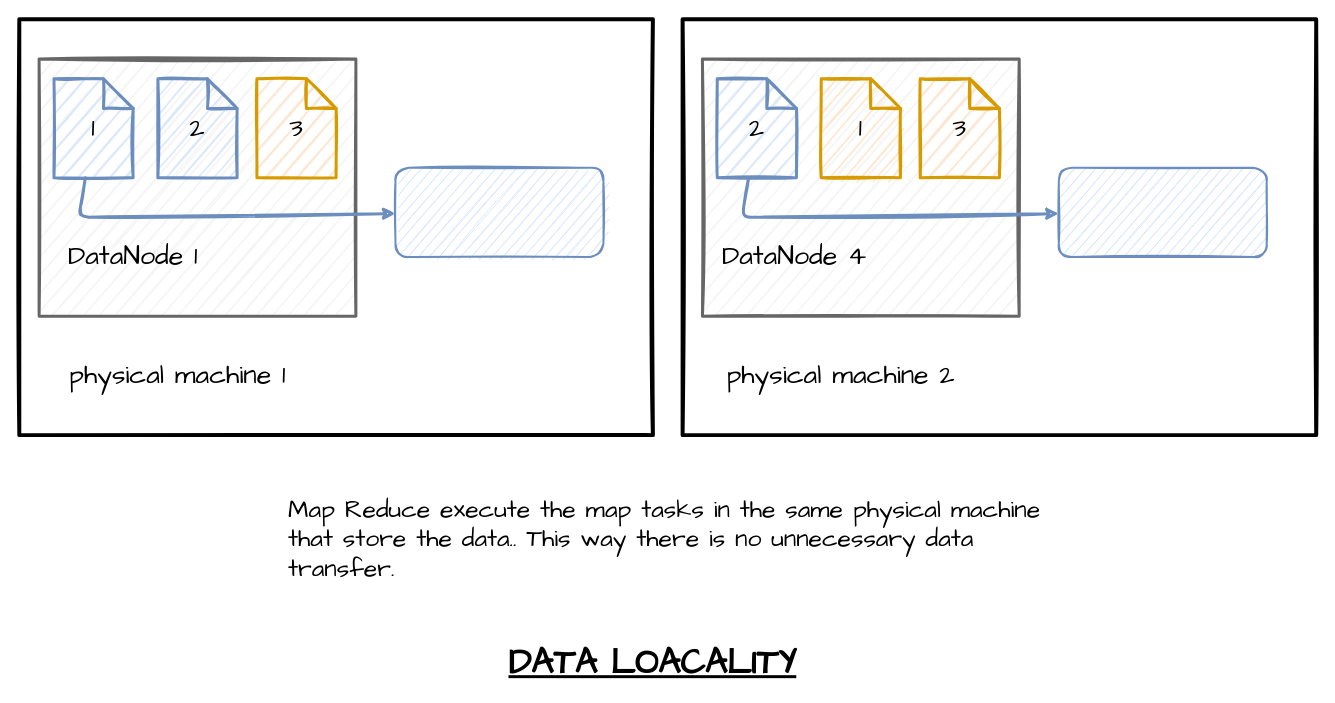
Image size: 1335x703. Some labels were removed from this diagram. The shapes that lost their labels are listed below. From the top down, each one's box as (x1, y1, x2, y2) in pixels, then its label:
(394, 166, 604, 257): mapper 1
(1057, 166, 1267, 257): mapper 2
